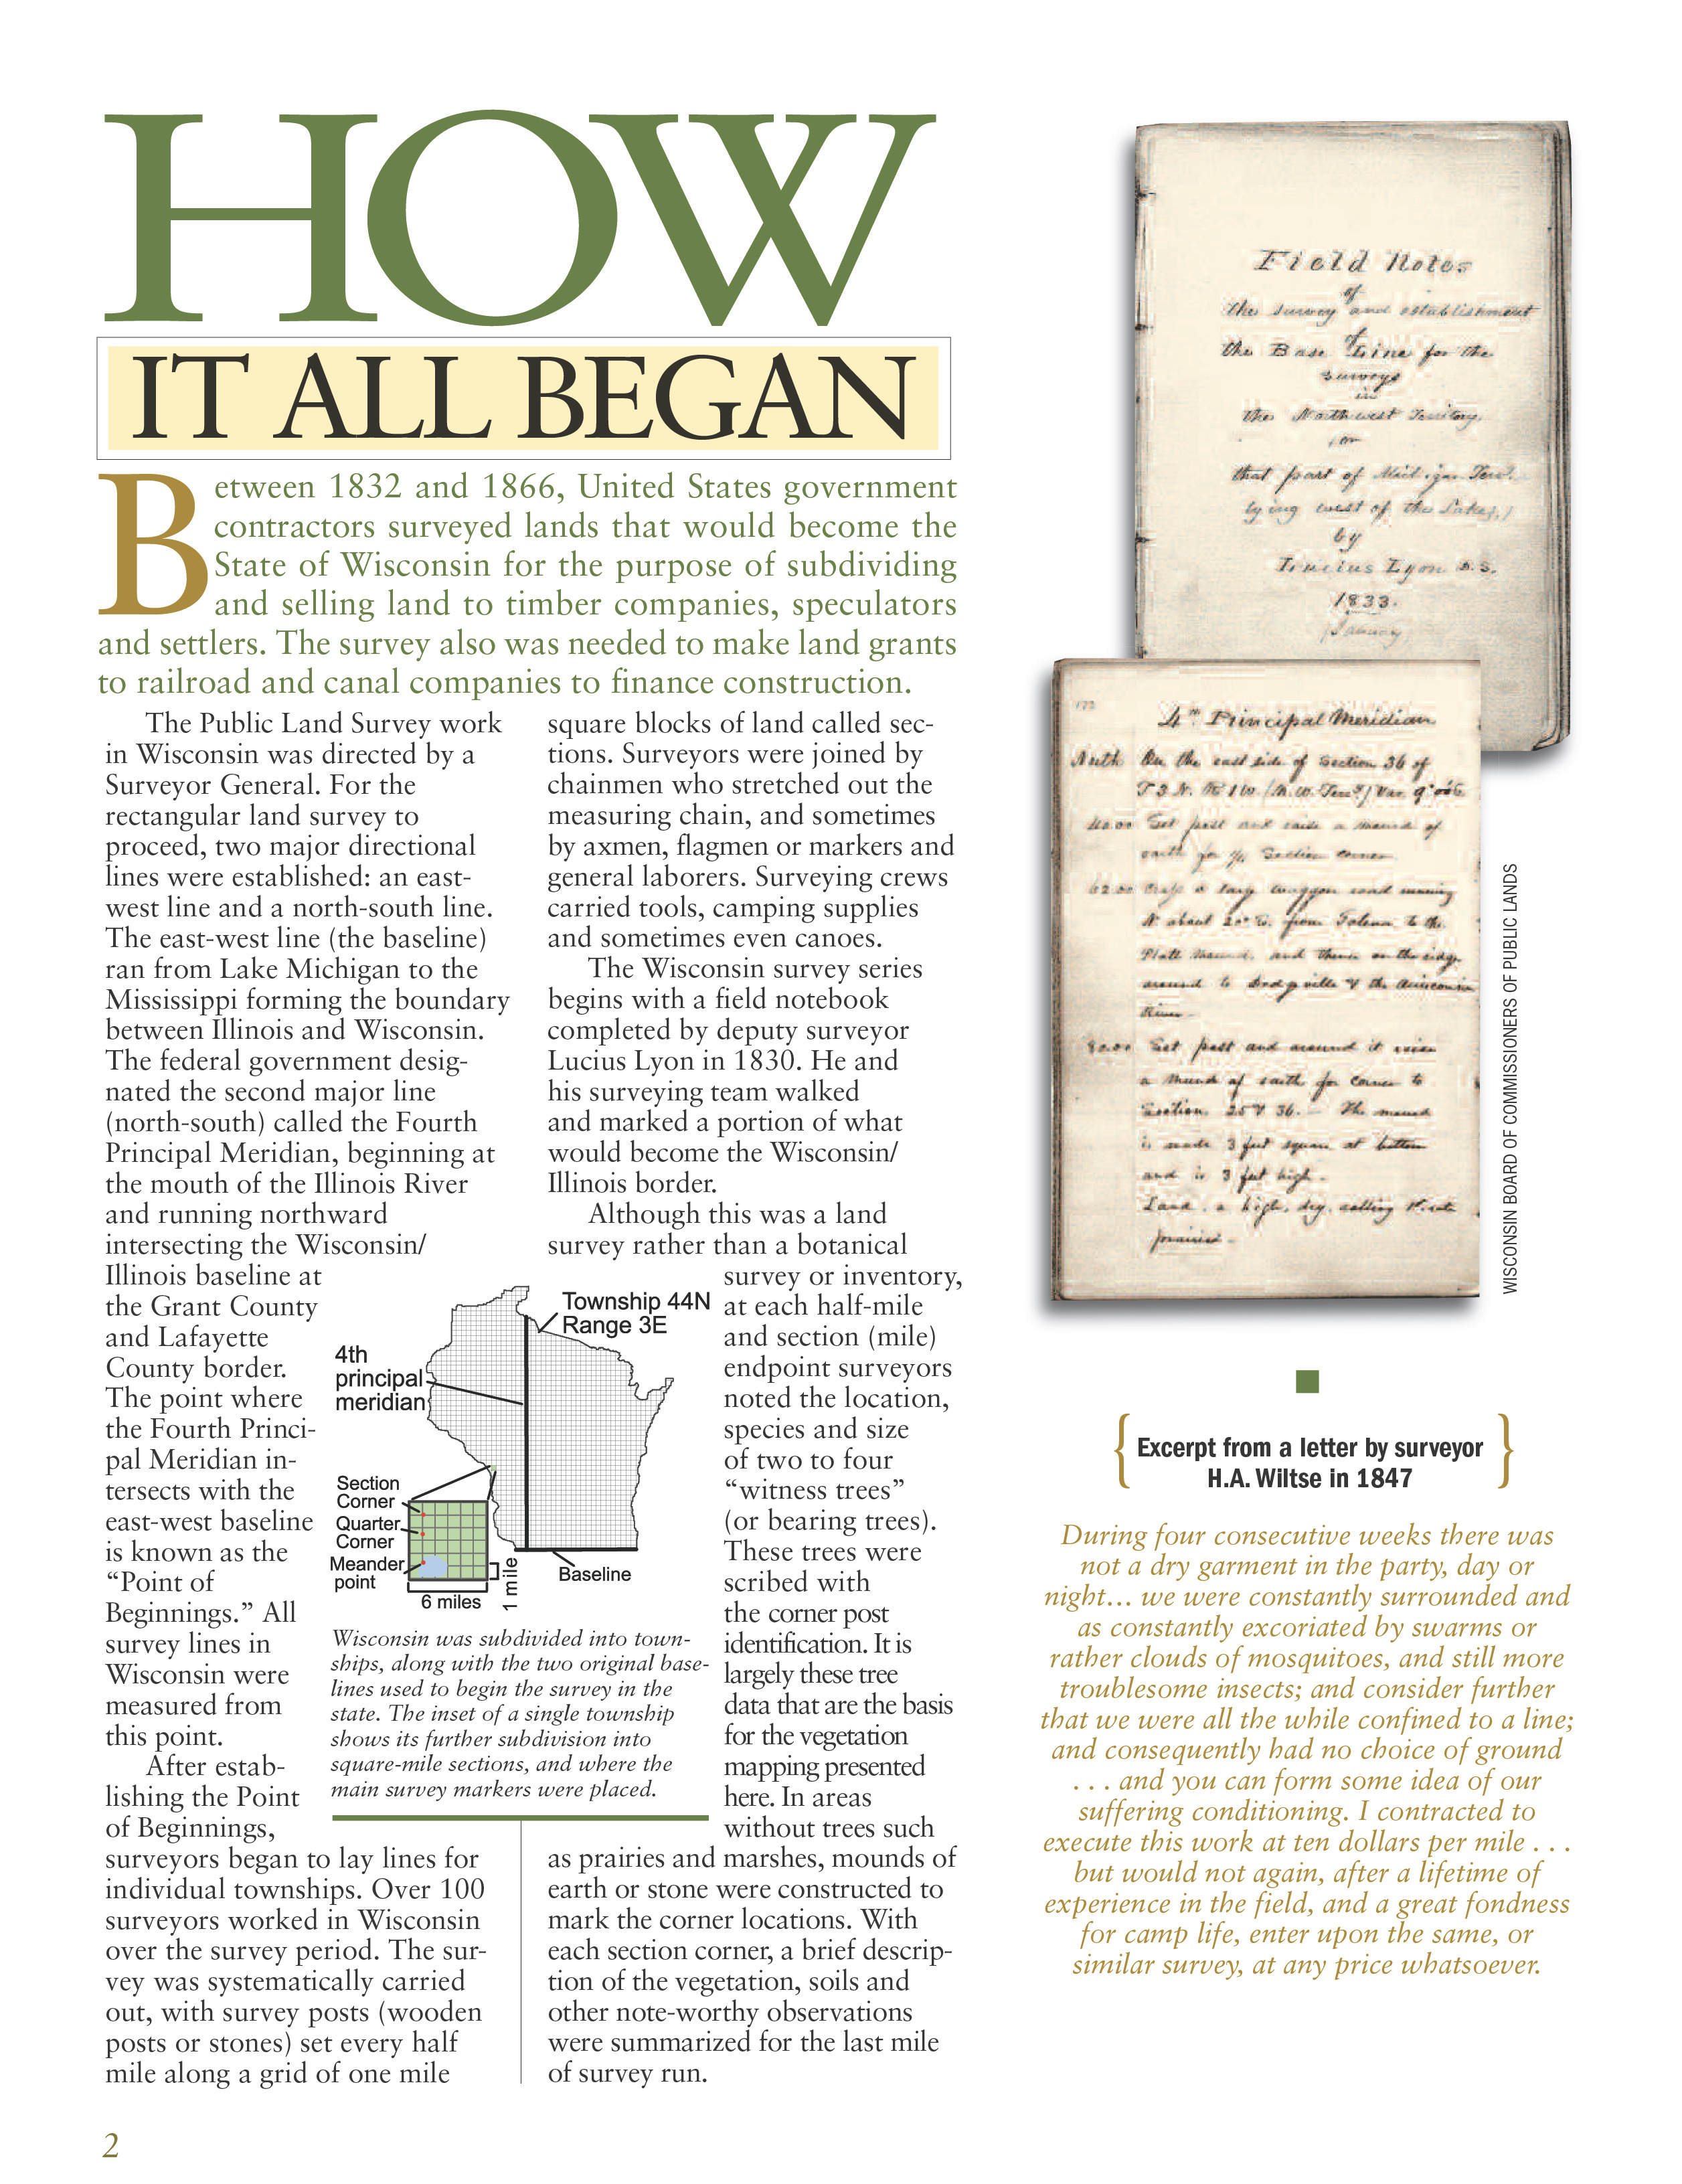caption: (327, 1617, 696, 1818)
figure: (1053, 122, 1569, 1306), (327, 1286, 712, 1601)
section: (102, 110, 921, 330), (118, 346, 933, 445)
text: (102, 721, 495, 1728), (558, 1203, 968, 2090), (1046, 1520, 1585, 1984), (99, 472, 968, 712), (551, 724, 945, 1180), (113, 1751, 488, 2082), (1134, 1421, 1484, 1491)
